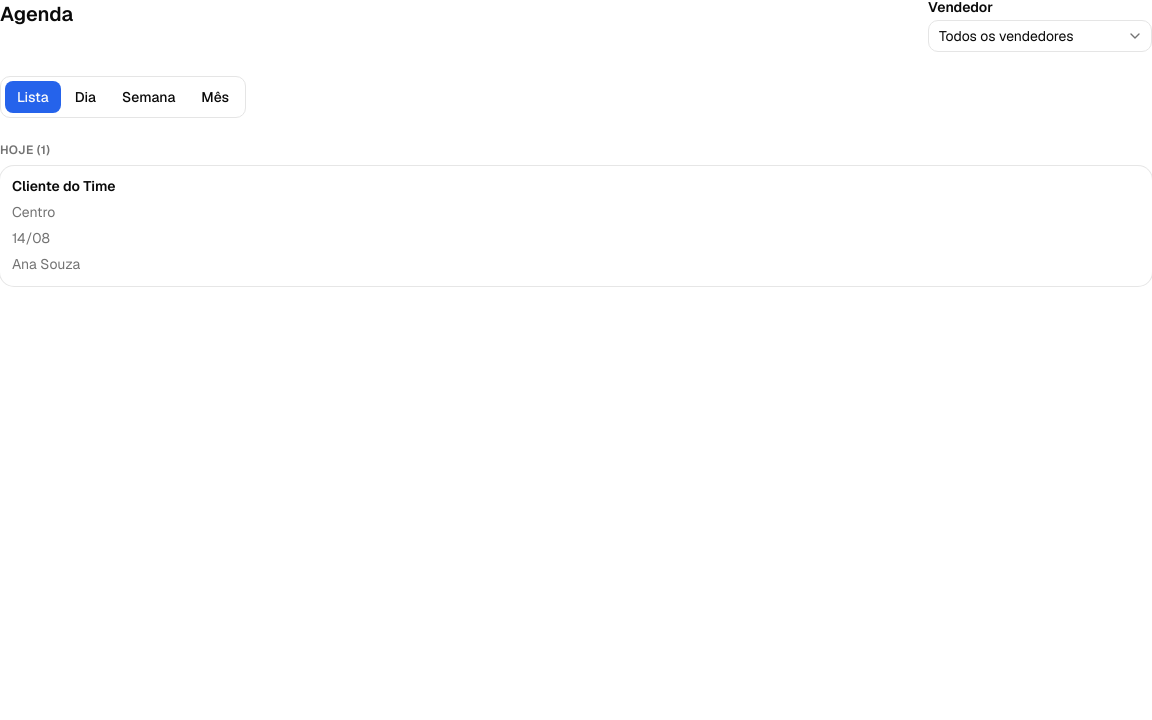
Agenda2List + Agenda2Calendario (integração, plano 32-07) › supervisor-somente-leitura-no-calendario (D-16): sem Editar, Apagar, Concluir, Desmarcar nem Adicionar visita
Expected: the text "Cliente do Time" is shown, [12,177,116,195]
Click the button "Mês".
click(215, 97)  # box [189,81,241,113]
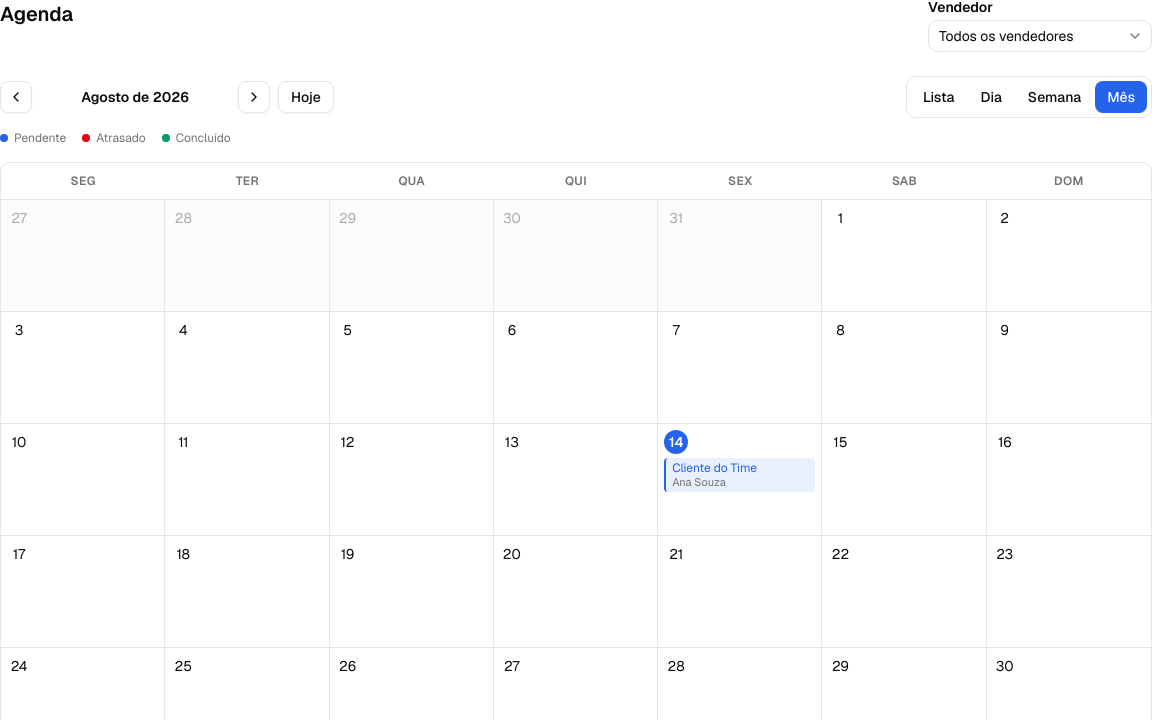
Click the button with aria-label "14 de agosto".
click(740, 480)  # box [658,424,822,536]
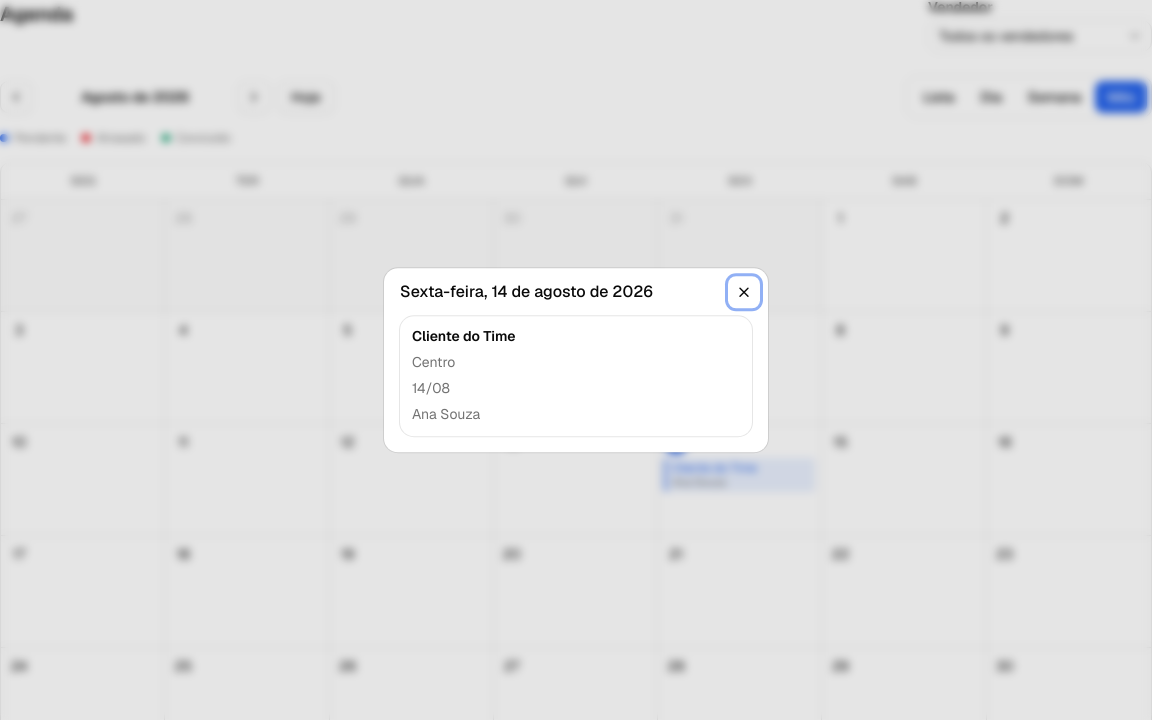
Now the text "Cliente do Time" is shown, box [412,327,516,345]
